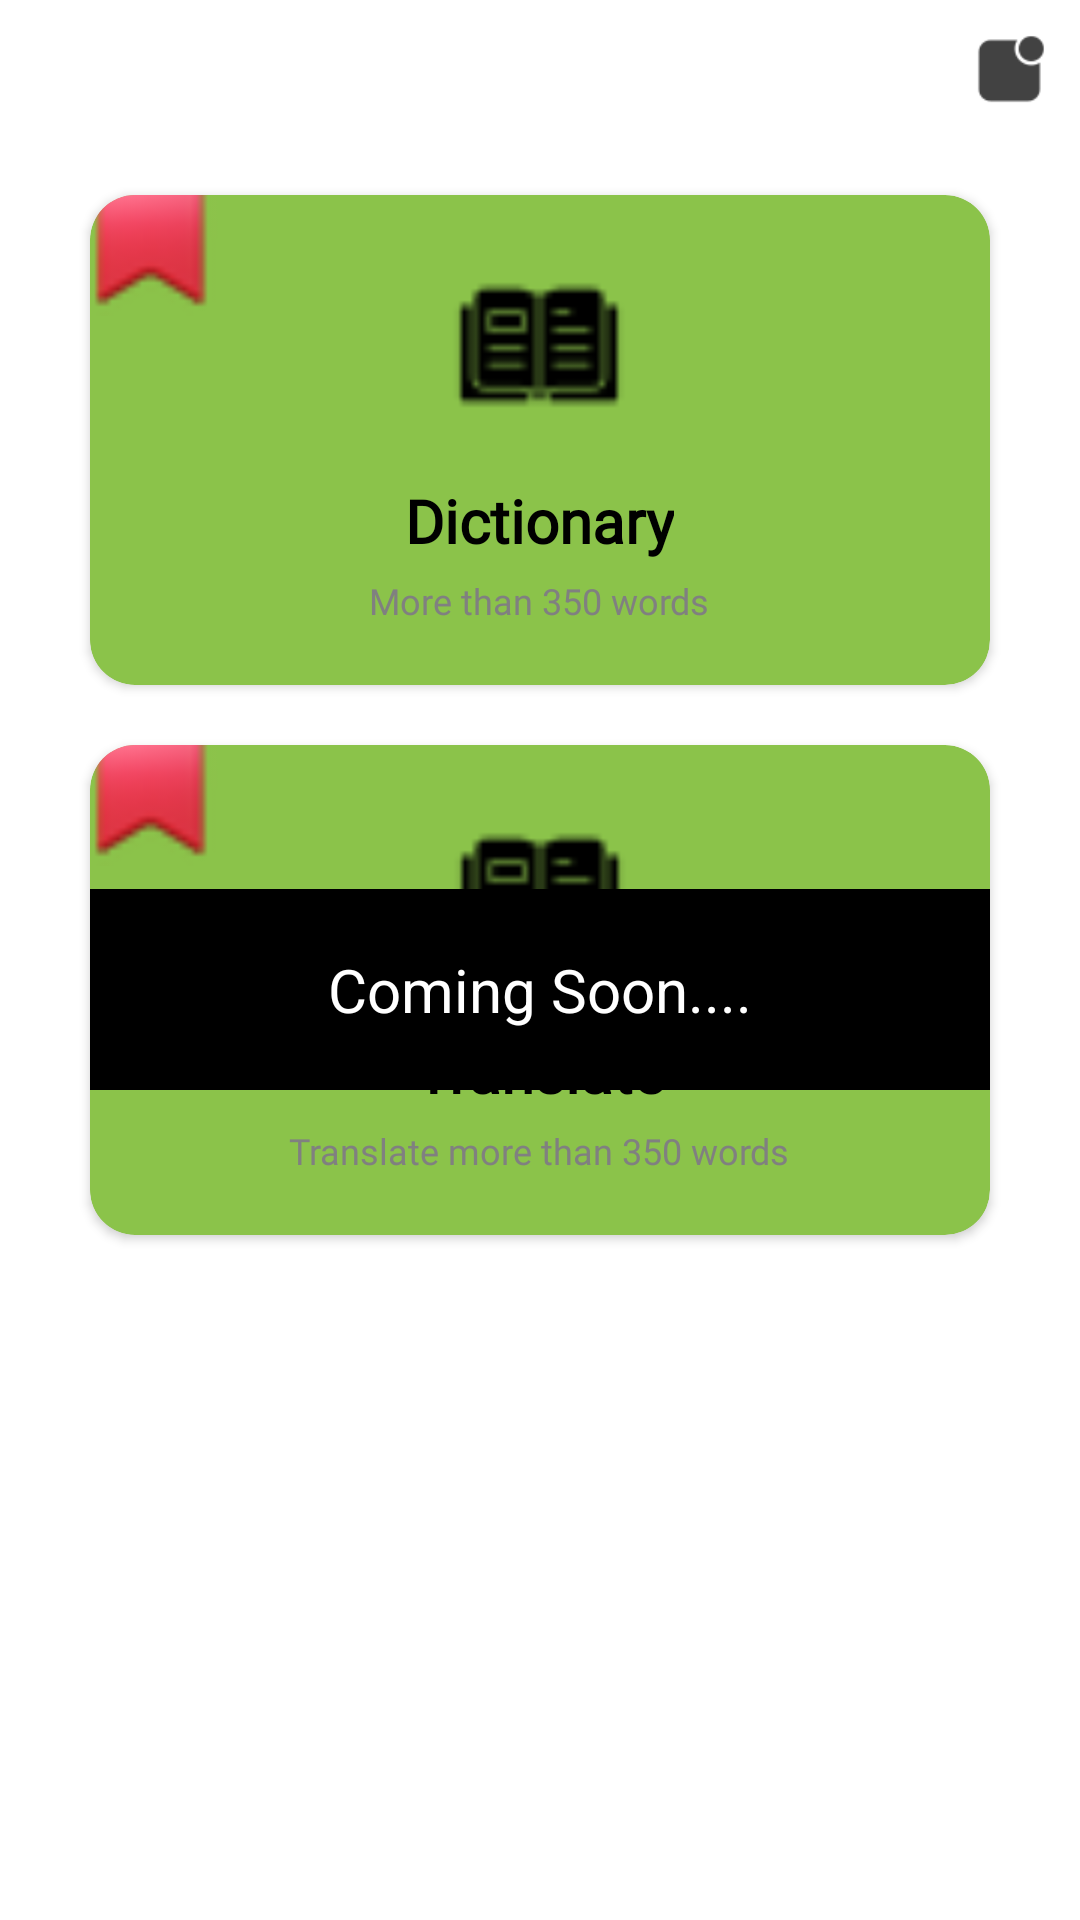

Icon bounding boxes for this 1080px x 1920px phone screenshot, format (x1, y1, x2, y2):
notifyicon: (978, 36, 1044, 102)
